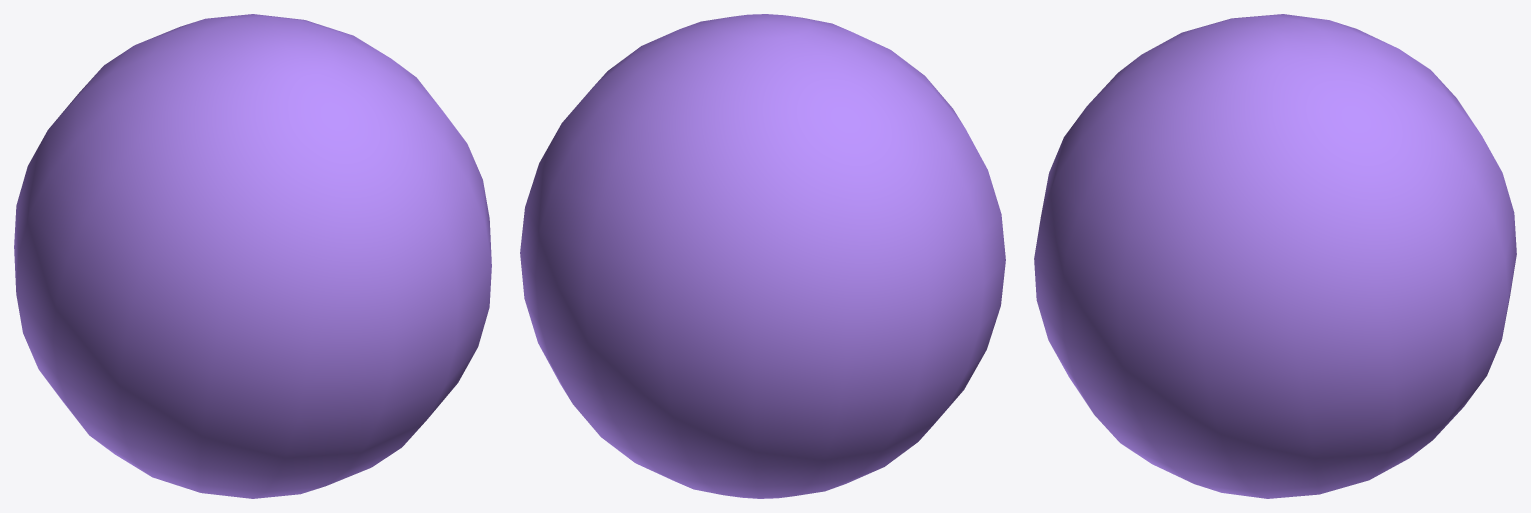
3 views of the same model, side by side, from view 1: azimuth 30°, elevation 25°; view 2: azimuth 150°, elevation 25°; view 3: azimuth 270°, elevation 25° (orthographic).
Parts seen in each view (by area): view 1: orb8.006; view 2: orb8.006; view 3: orb8.006.
Part boxes in pixels (left/top/right/bottom): orb8.006: left=14, top=14, right=491, bottom=498; orb8.006: left=520, top=14, right=1005, bottom=498; orb8.006: left=1034, top=14, right=1516, bottom=498.
Bounding box in the file's own units: 0.3971 × 0.3999 × 0.3976.
